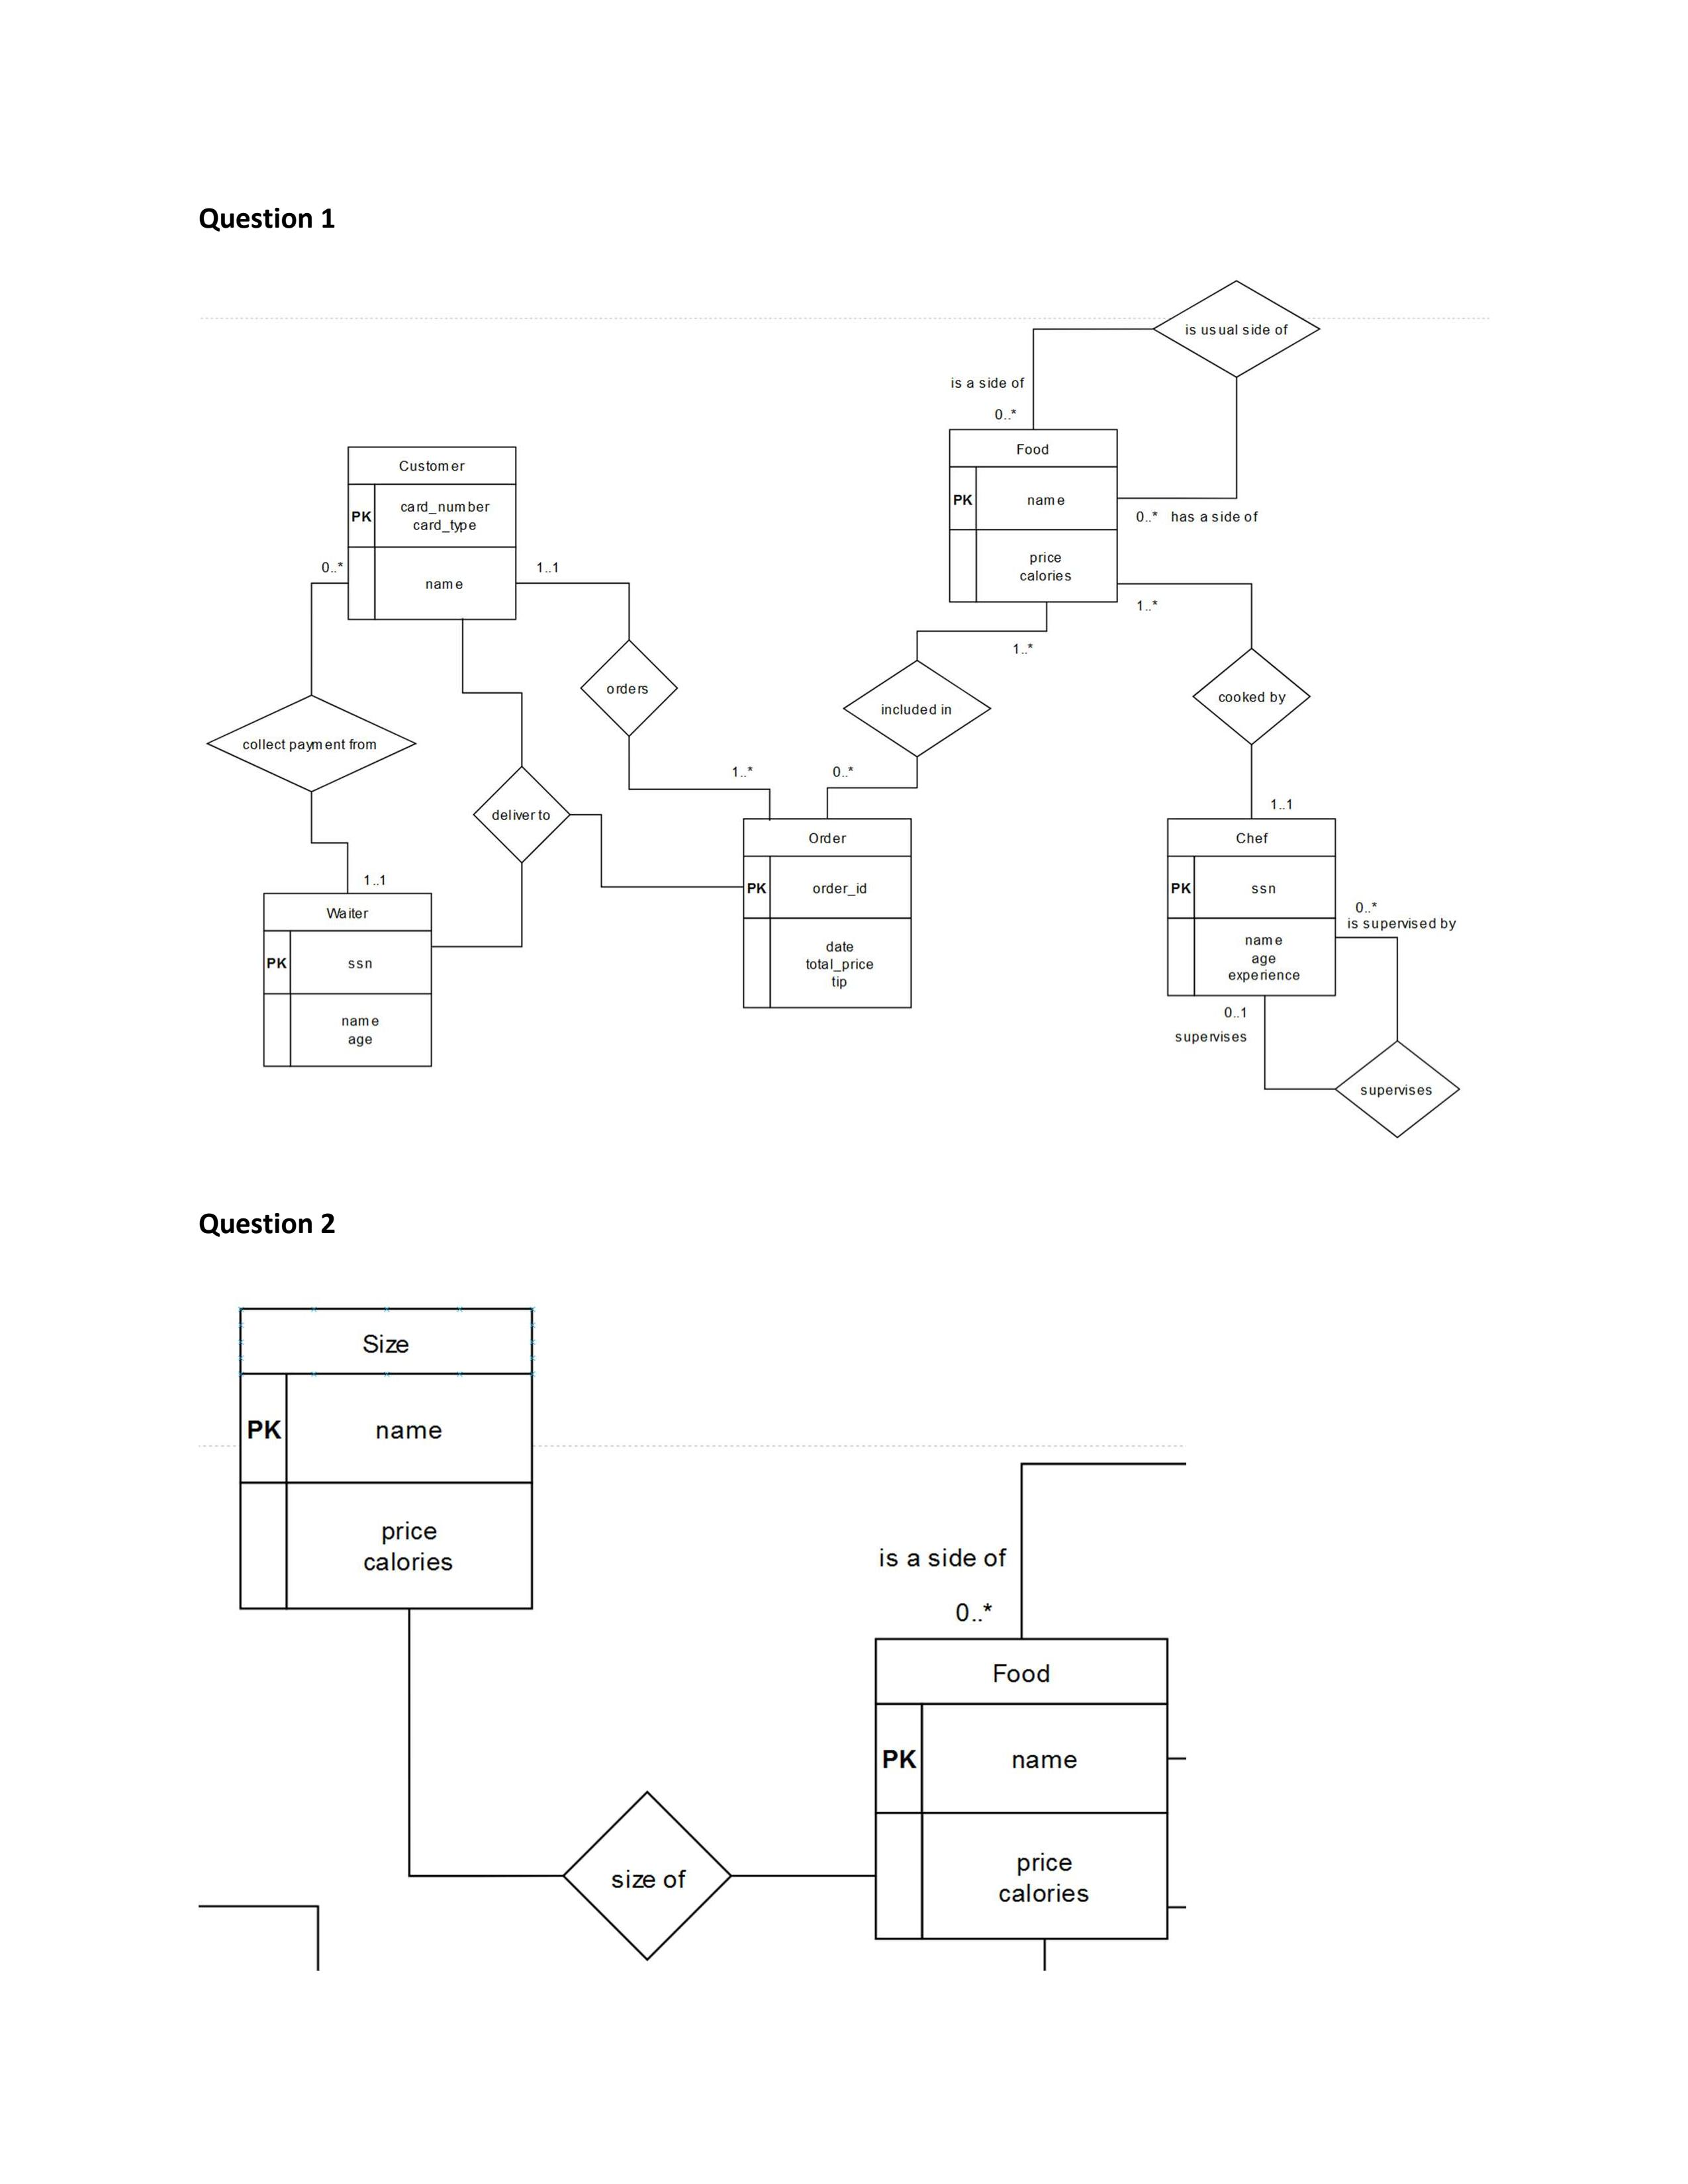Entity: (869, 1629, 1177, 1941), (236, 1306, 534, 1613), (739, 815, 917, 1009), (1165, 814, 1339, 1000), (344, 443, 520, 624), (945, 425, 1121, 606), (261, 888, 431, 1071)
Relationship: (566, 1789, 731, 1964), (202, 693, 422, 792), (1154, 277, 1325, 379), (839, 661, 995, 757), (1333, 1042, 1461, 1136), (1193, 645, 1312, 743), (580, 640, 683, 739), (470, 766, 567, 862)
